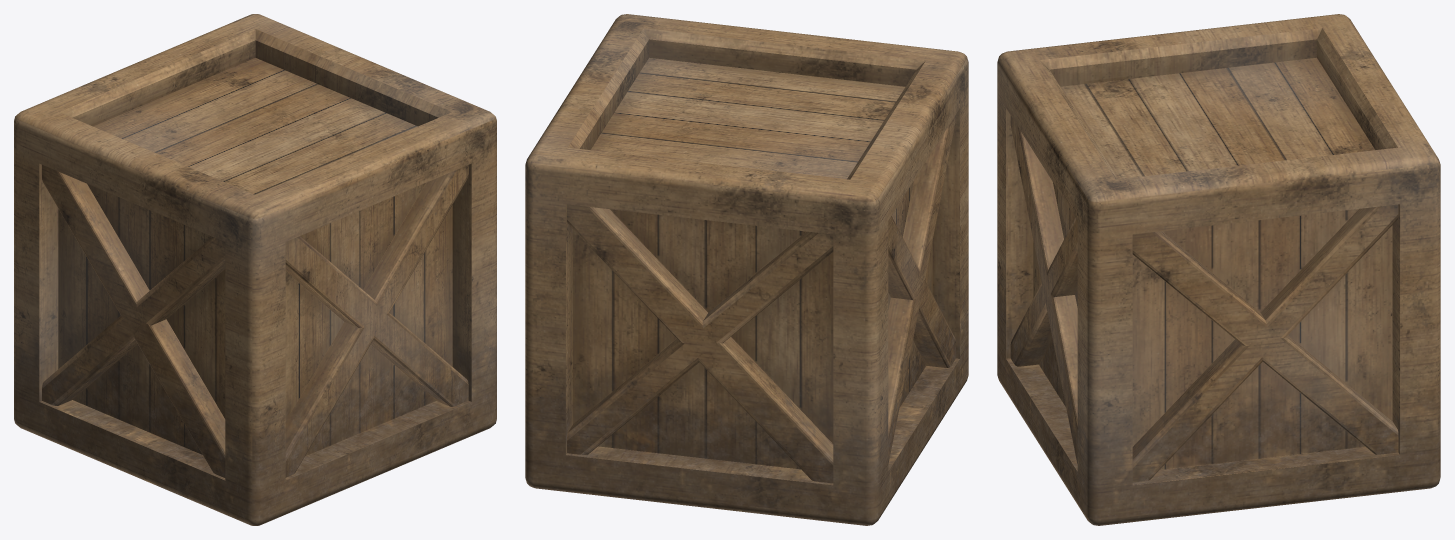
Rendered from Caixa2 1.fbx.
3 renders of one model, left to right at view 1: azimuth 30°, elevation 25°; view 2: azimuth 150°, elevation 25°; view 3: azimuth 270°, elevation 25°, orthographic. The views are drawn at different scales.
Parts seen in each view (by area): view 1: CA_2.001; view 2: CA_2.001; view 3: CA_2.001.
Boxes of the visible parts, x1,y1,x2,y2 form: CA_2.001: (14,14,496,525); CA_2.001: (525,14,968,525); CA_2.001: (997,14,1440,525).
Bounding box in the file's own units: 104 × 86.07 × 104.
